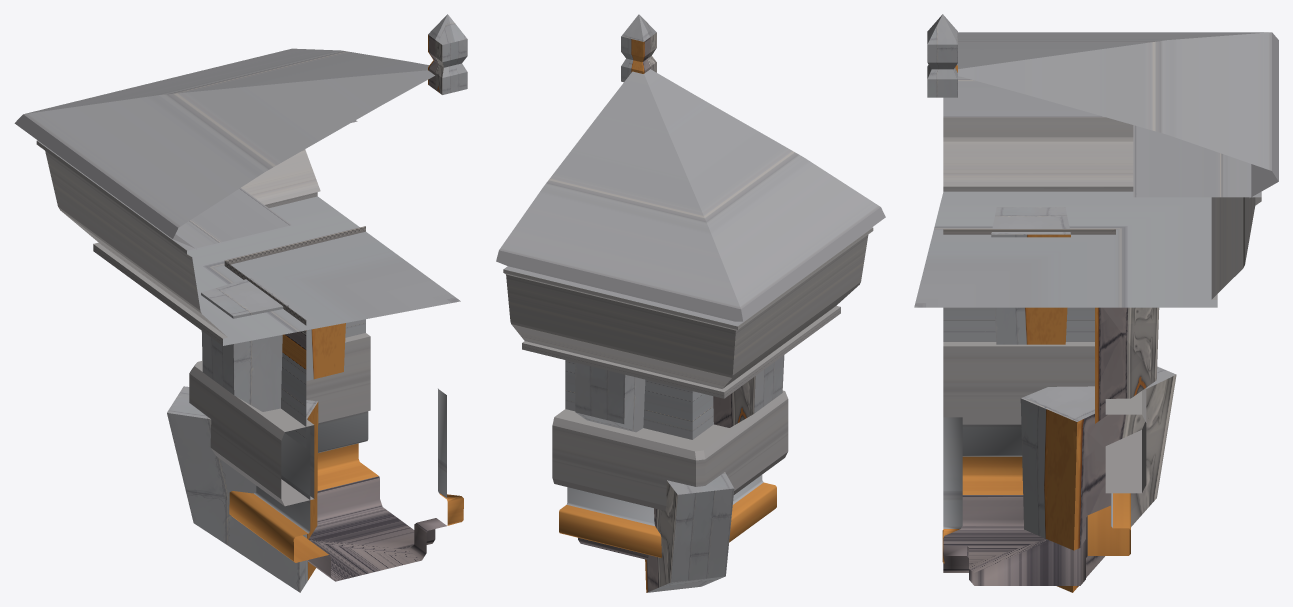
File: SM_WallArchCorner.fbx
3 renders of one model, left to right at view 1: azimuth 30°, elevation 25°; view 2: azimuth 150°, elevation 25°; view 3: azimuth 270°, elevation 25°, orthographic. The views are drawn at different scales.
Visible parts, largest first — view 1: SM_WallArchCorner; view 2: SM_WallArchCorner; view 3: SM_WallArchCorner.
Boxes of the visible parts, x1,y1,x2,y2 form: SM_WallArchCorner: [14, 14, 467, 592]; SM_WallArchCorner: [496, 14, 885, 592]; SM_WallArchCorner: [914, 14, 1278, 592].
Size of the model in its own units: 1.69 by 3.23 by 1.74.
